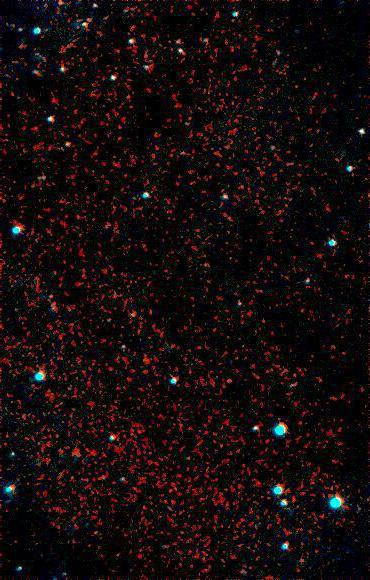star: (218, 366, 248, 396)
